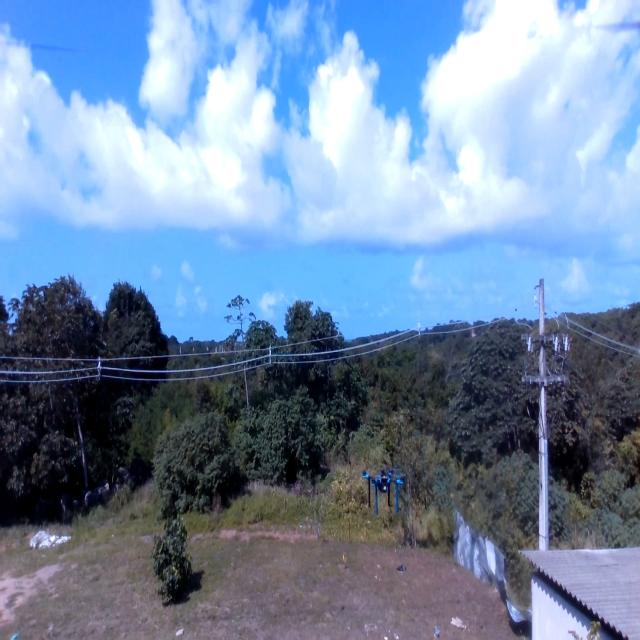-uav-: (355, 452, 417, 527)
